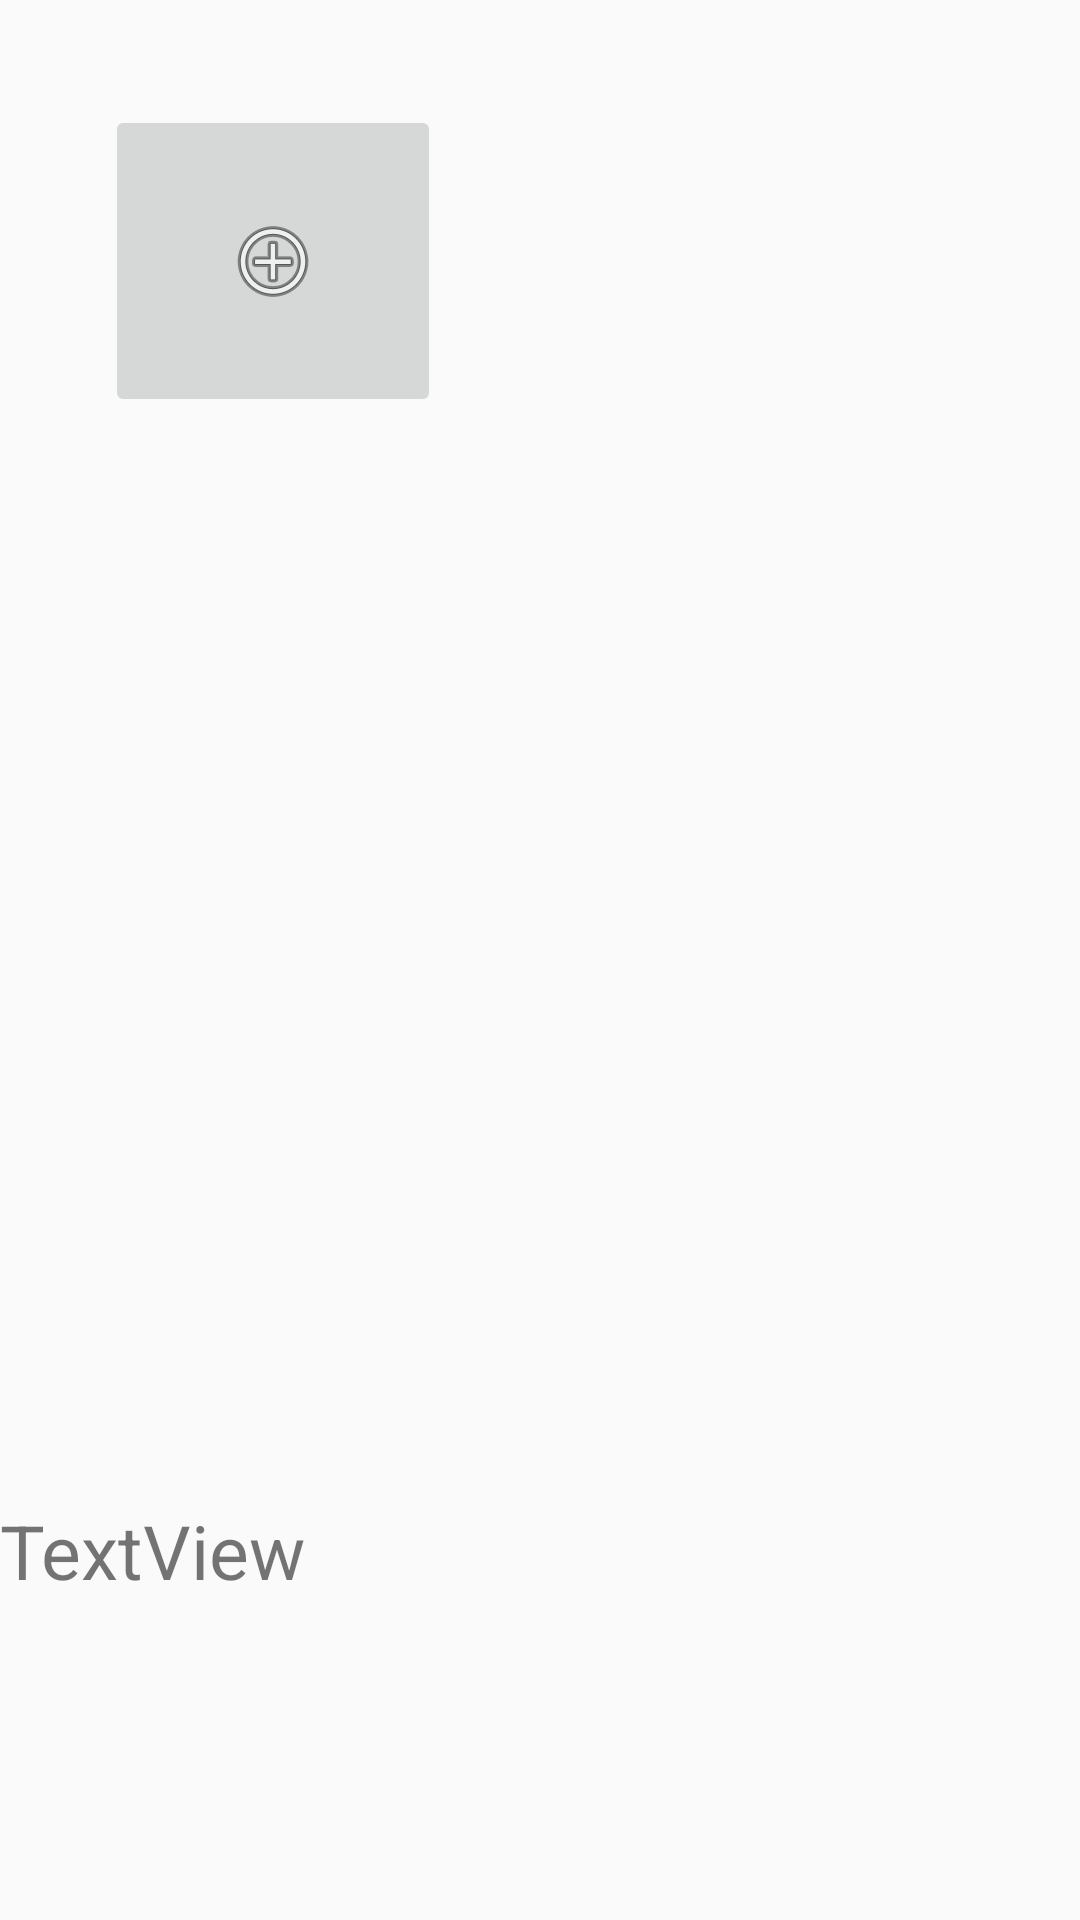

Icons on this 1080 x 1920 Android screen, each with its box as bbox(x1, y1, x2, y2):
add: bbox(117, 123, 429, 399)
